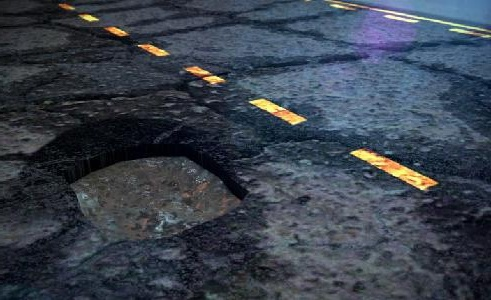pothole: (63, 141, 251, 244)
